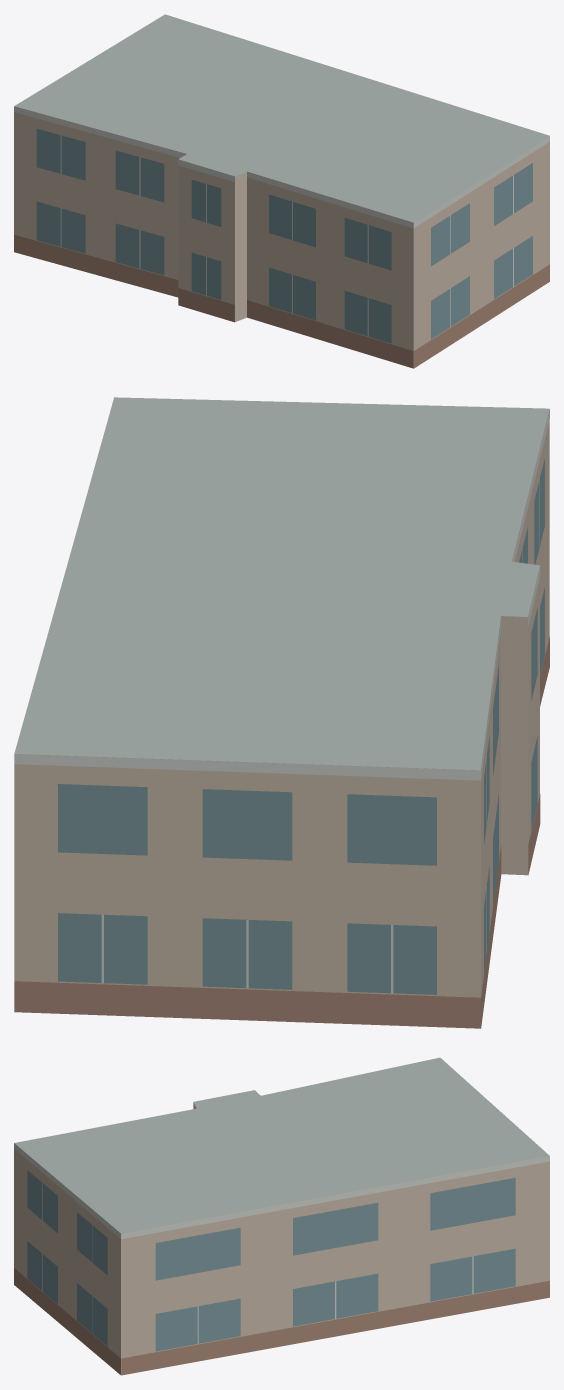
The model's file is survey-upis-32975933.glb.
3 views of the same model, one above another, from view 1: azimuth 30°, elevation 25°; view 2: azimuth 150°, elevation 25°; view 3: azimuth 270°, elevation 25° (orthographic). The views are drawn at different scales.
Parts seen in each view (by area): view 1: survey-upis-32975933.tmp; view 2: survey-upis-32975933.tmp; view 3: survey-upis-32975933.tmp.
Boxes of the visible parts, x1,y1,x2,y2 form: survey-upis-32975933.tmp: [14, 14, 549, 368]; survey-upis-32975933.tmp: [14, 397, 549, 1028]; survey-upis-32975933.tmp: [14, 1057, 549, 1375].
Size of the model in its own units: 16.26 by 6.1 by 20.89.
